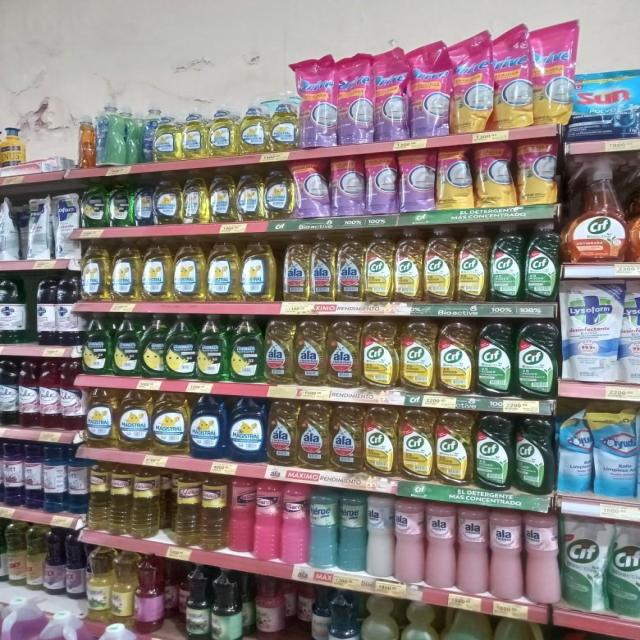ala_conc_amarillo: (328, 317, 360, 388), (330, 404, 362, 474), (298, 401, 329, 470), (295, 318, 326, 387), (264, 317, 294, 385), (336, 230, 364, 302), (268, 399, 297, 466), (281, 233, 309, 302), (310, 232, 336, 302)
ala_crem_blanco: (367, 494, 394, 578)
ala_crem_rosado: (524, 511, 560, 605), (490, 509, 523, 601), (458, 504, 488, 596), (425, 502, 456, 590), (395, 498, 424, 584)
cif_conc_bot_amarilla: (436, 409, 472, 486), (438, 319, 474, 395), (400, 319, 436, 393), (362, 318, 398, 390), (456, 223, 488, 303), (400, 407, 434, 482), (364, 405, 398, 477), (424, 226, 455, 303), (394, 226, 422, 303), (364, 228, 392, 303), (629, 156, 640, 264)
cif_conc_botella_verde: (516, 320, 556, 399), (515, 415, 553, 495), (475, 412, 513, 491), (476, 320, 514, 398), (525, 220, 559, 302), (490, 222, 523, 302)
drive: (452, 31, 493, 133), (410, 40, 450, 137), (495, 25, 532, 129), (299, 56, 336, 148), (375, 46, 409, 142), (338, 53, 373, 145), (331, 157, 365, 216), (367, 153, 398, 214)
heroe: (338, 490, 366, 573), (310, 486, 338, 569), (170, 472, 199, 546)
magistral_con_amarillo: (242, 234, 278, 303), (153, 392, 188, 456), (207, 236, 240, 302), (173, 236, 205, 302), (141, 237, 172, 302), (118, 390, 151, 451), (85, 388, 116, 448), (111, 238, 140, 302), (82, 238, 110, 302), (269, 98, 299, 152), (208, 105, 238, 156), (239, 103, 268, 154), (180, 105, 207, 159), (265, 168, 293, 220), (152, 108, 179, 161), (236, 172, 265, 221), (182, 175, 209, 224), (154, 177, 182, 224), (210, 173, 236, 223)
magistral_con_azul: (228, 397, 266, 463), (190, 394, 226, 460)
magistral_con_crema: (400, 601, 439, 640)
